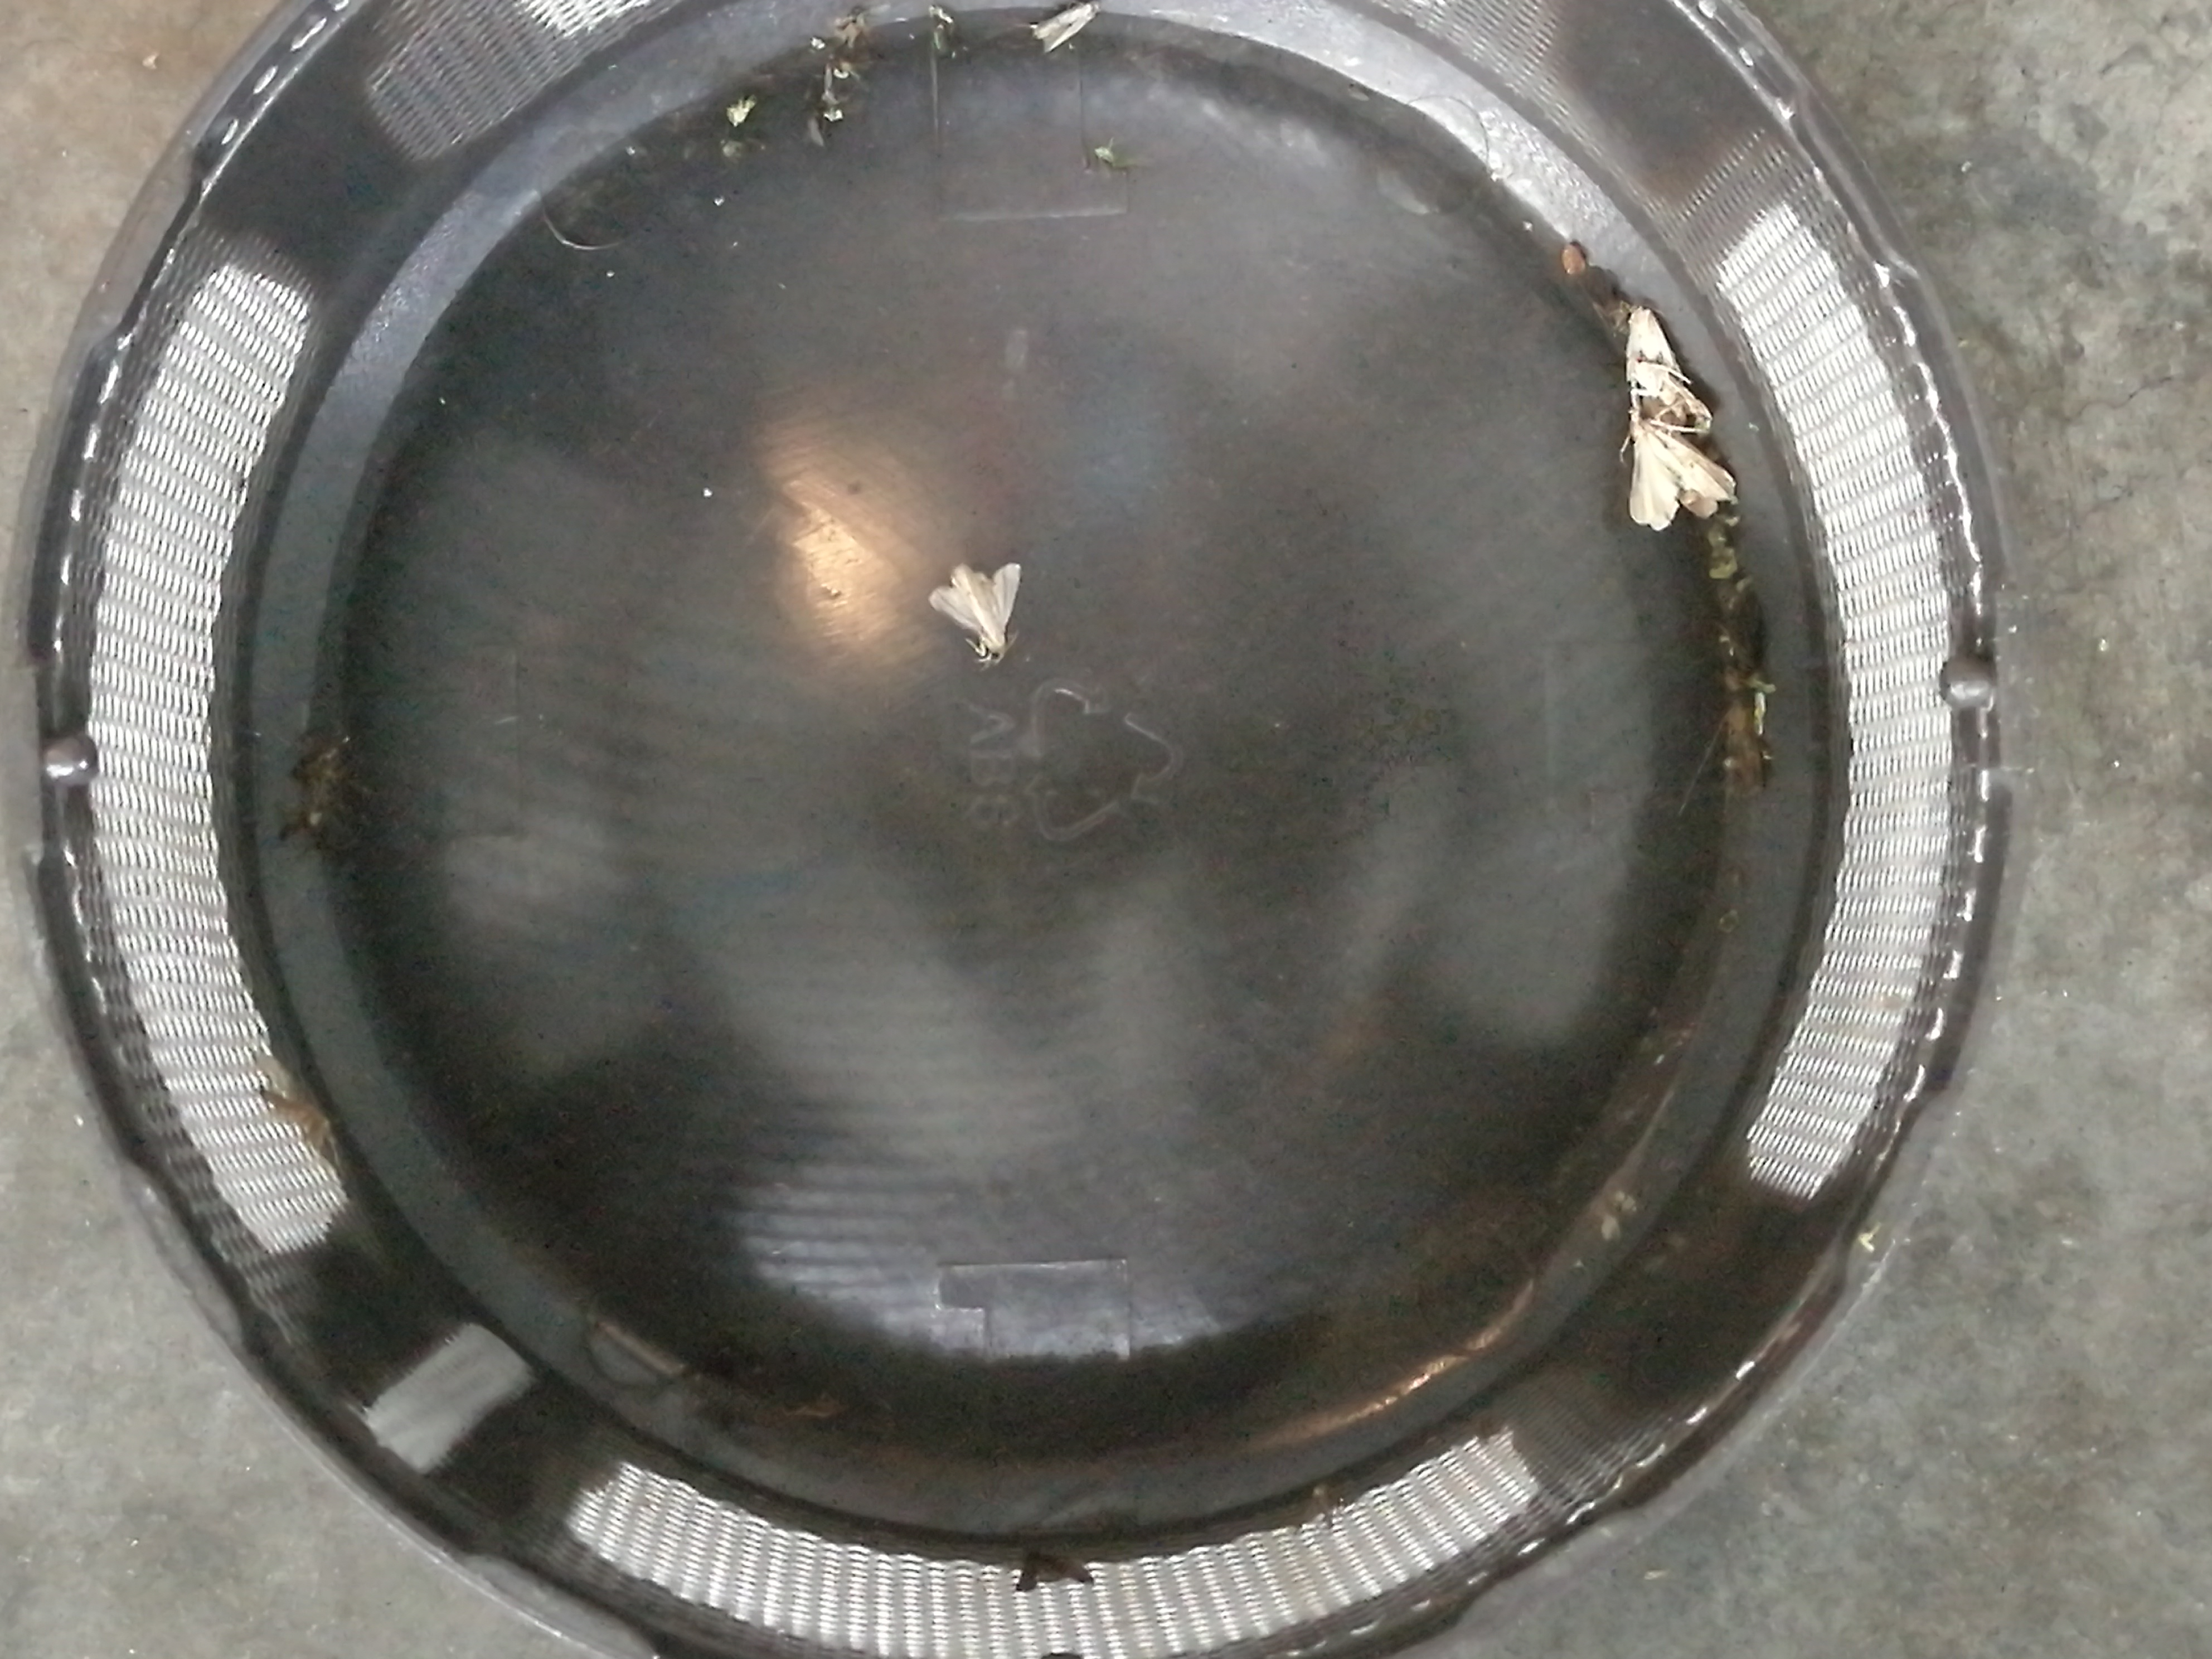moth: (1629, 420, 1733, 530), (932, 561, 1019, 662), (1625, 310, 1683, 423)
